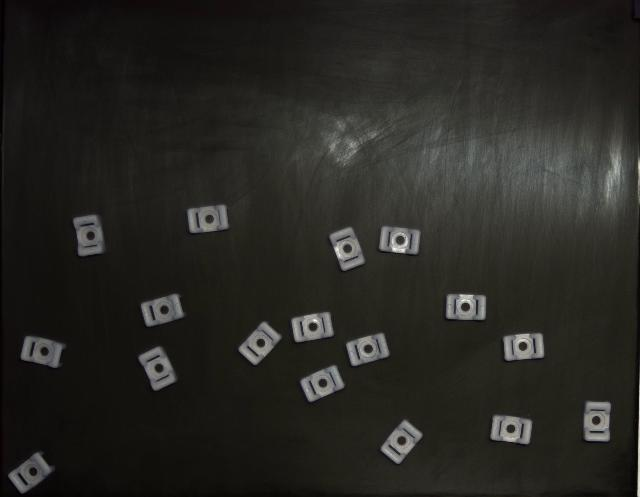first_side: (9, 452, 55, 494), (380, 420, 422, 464), (239, 322, 281, 365), (139, 346, 178, 391), (300, 365, 345, 402), (329, 228, 365, 271), (20, 336, 66, 369), (141, 294, 185, 328), (72, 215, 105, 258), (346, 334, 390, 366), (291, 312, 334, 342), (490, 415, 532, 445), (379, 226, 421, 255), (188, 205, 229, 234), (502, 334, 544, 361), (584, 401, 611, 442), (446, 294, 486, 321)
